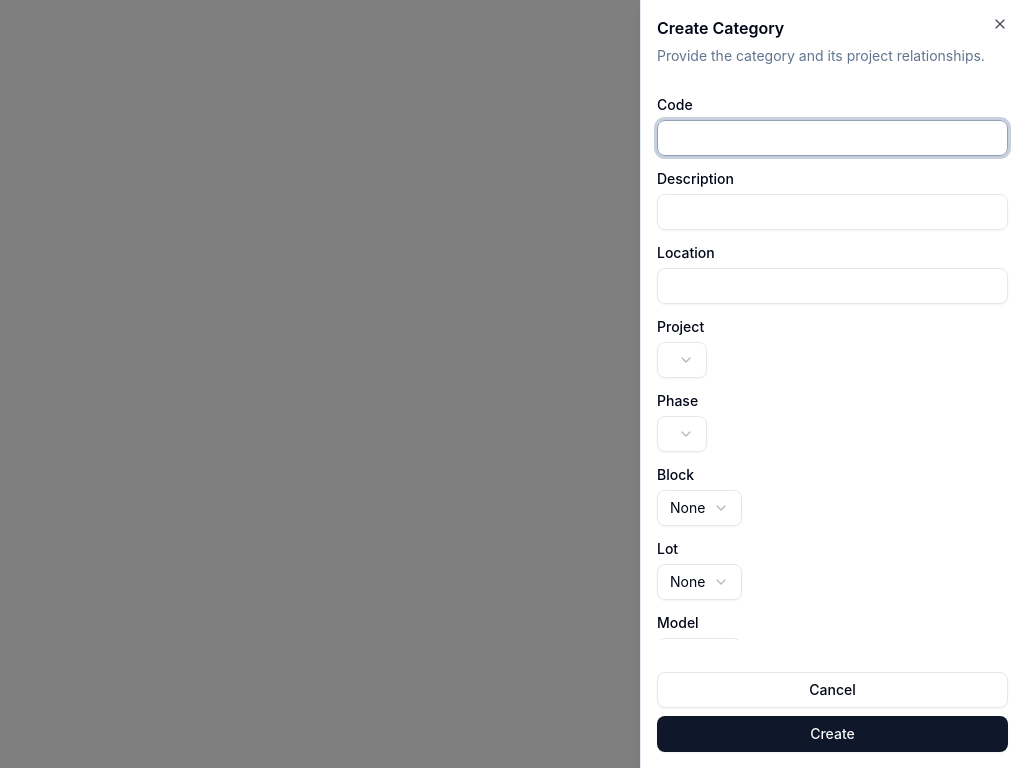
Scenario: requires project and phase before submitting
Step 1. Type "CAT1" into the field labelled "Code" → [832, 138], box [657,120,1008,156]
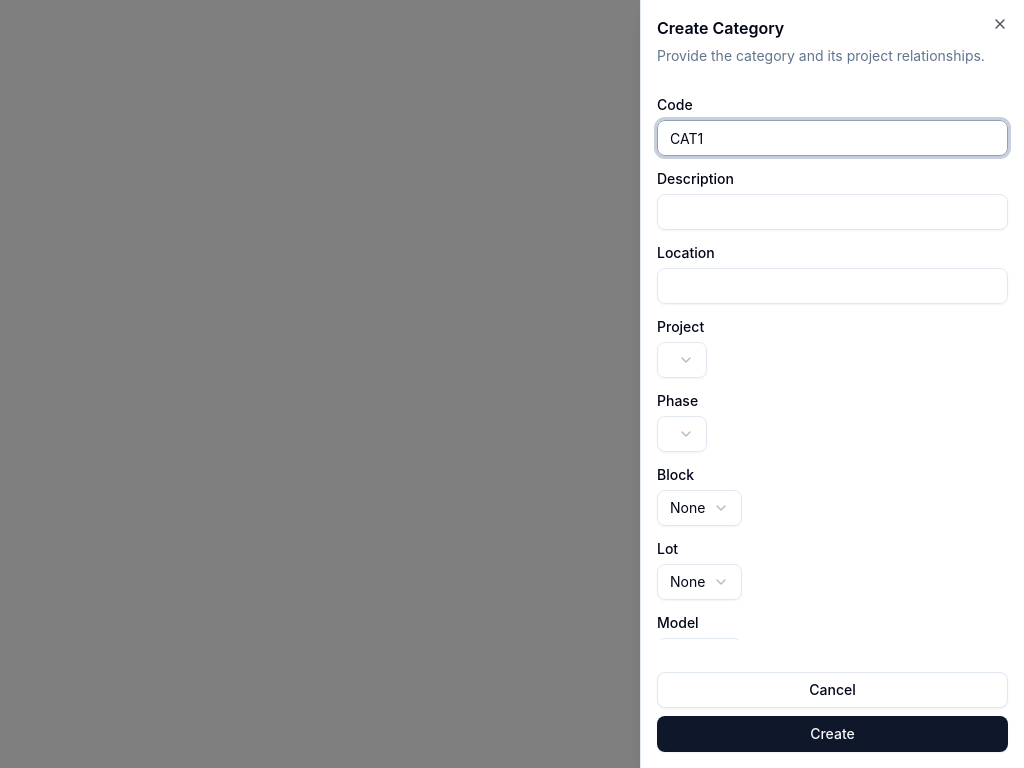
Step 2. Click the button "Create" → [832, 734], box [657,716,1008,752]
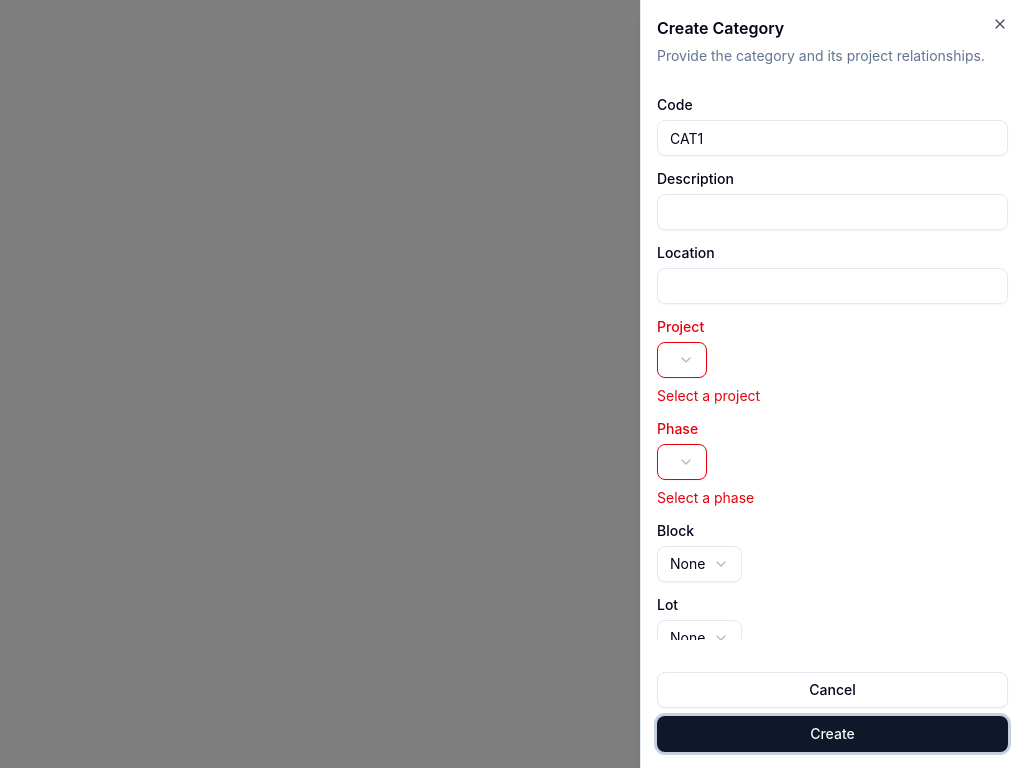
Expected: the text "Select a project" is shown, [657,387,760,404]
Expected: the text "Select a phase" is shown, [657,489,754,506]
